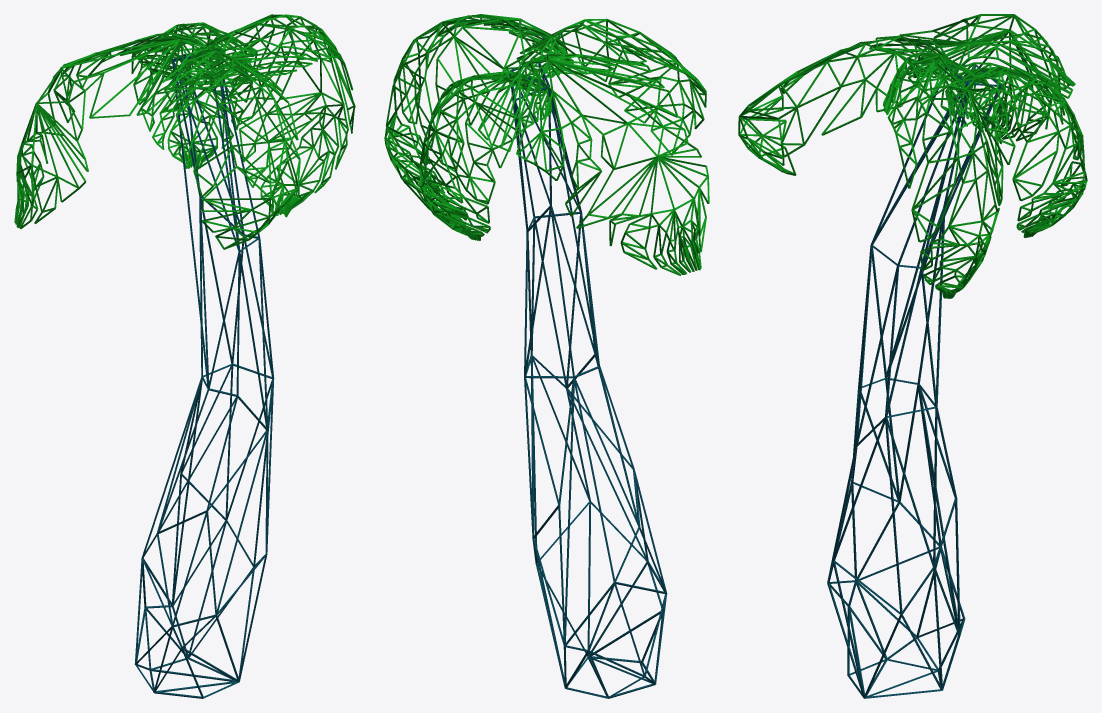
The model's file is palm_wire_5.FBX.
3 views of the same model, side by side, from view 1: azimuth 30°, elevation 25°; view 2: azimuth 150°, elevation 25°; view 3: azimuth 270°, elevation 25° (orthographic). The views are drawn at different scales.
Visible parts, largest first — view 1: palm5, Object001; view 2: palm5, Object001; view 3: palm5, Object001.
Boxes of the visible parts, <box> form: palm5: <box>14,14,355,249</box>; Object001: <box>134,50,274,698</box>; palm5: <box>384,14,709,275</box>; Object001: <box>509,62,667,698</box>; palm5: <box>738,14,1087,298</box>; Object001: <box>827,64,1001,698</box>.
Size of the model in its own units: 7.45 by 6.83 by 14.34.
